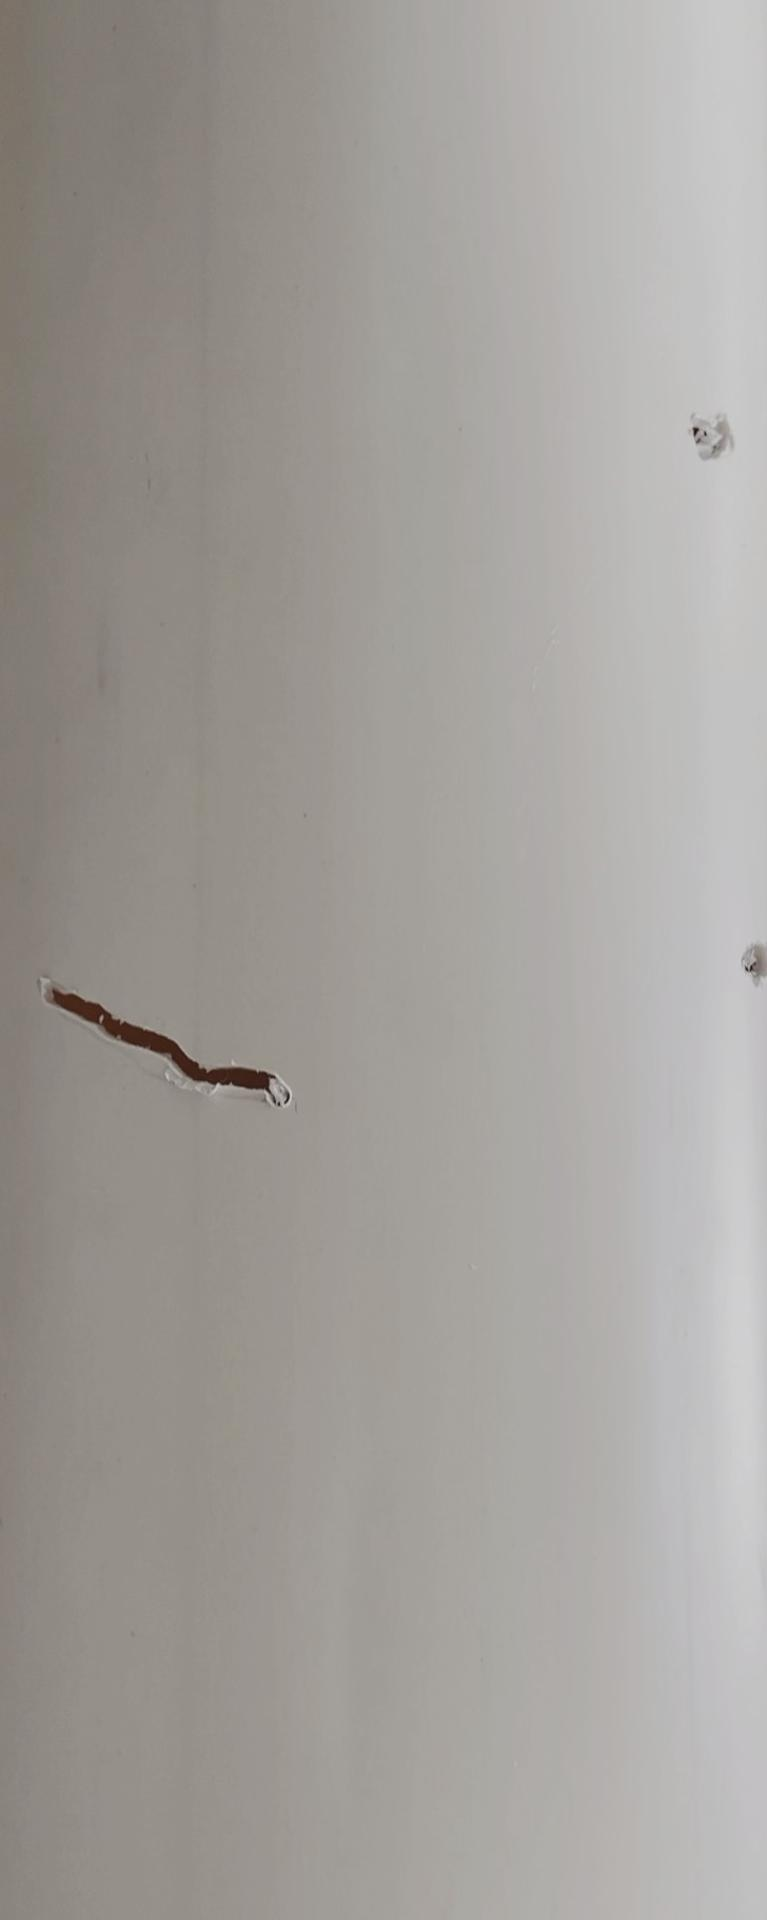fengxi: (25, 965, 303, 1117)
kongdong: (674, 407, 742, 476), (740, 922, 767, 996)
